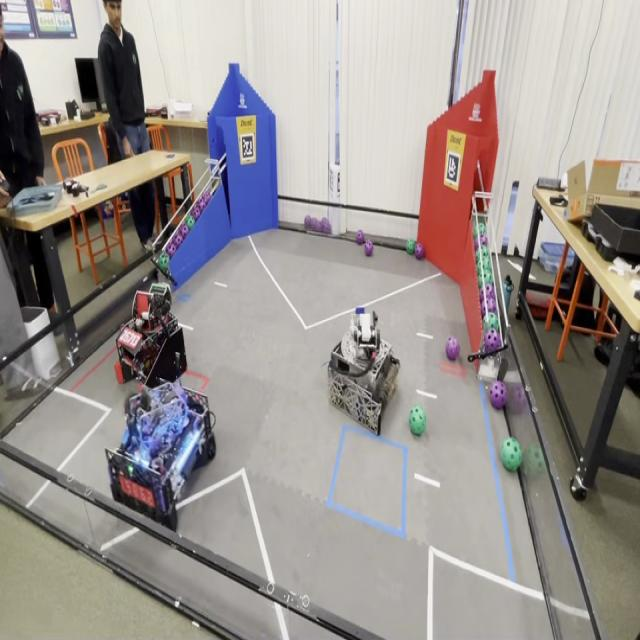artifact_green: (523, 445, 546, 478), (501, 438, 522, 472), (508, 382, 528, 414), (409, 406, 426, 436), (483, 312, 499, 331), (478, 272, 493, 289), (477, 256, 491, 274), (476, 246, 490, 264), (158, 252, 169, 271), (473, 222, 486, 238), (415, 242, 425, 260), (185, 215, 195, 229), (406, 239, 415, 254), (476, 222, 486, 235), (478, 222, 487, 234), (472, 222, 478, 239), (476, 262, 481, 277)
artifact_purple: (508, 383, 527, 413), (490, 381, 507, 410), (484, 329, 501, 353), (446, 336, 460, 361), (481, 298, 497, 317), (480, 285, 495, 302), (192, 198, 204, 219), (474, 234, 488, 251), (192, 202, 203, 220), (414, 243, 424, 260), (201, 190, 211, 207), (172, 233, 183, 248), (166, 242, 176, 258), (321, 217, 331, 233), (200, 196, 209, 212), (180, 224, 189, 240), (356, 230, 365, 245), (365, 241, 373, 257), (312, 217, 320, 232), (304, 215, 312, 229), (205, 191, 212, 205)
